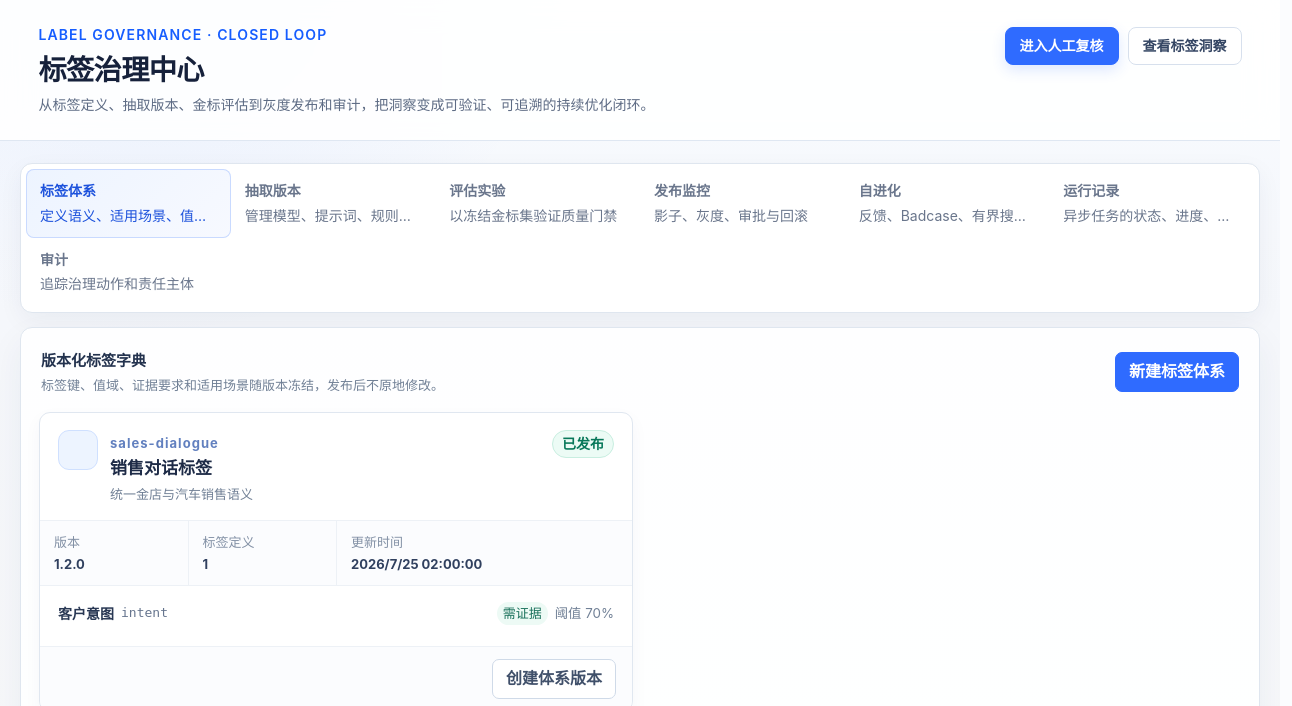
Test case: TagGovernancePage › shows evaluation quality gates and release traffic as operational evidence
Check: the heading "销售对话标签" is shown, box [110,458,212,478]
Click the tab "评估实验 以冻结金标集验证质量门禁" at (538, 204), box [435,169,640,238]
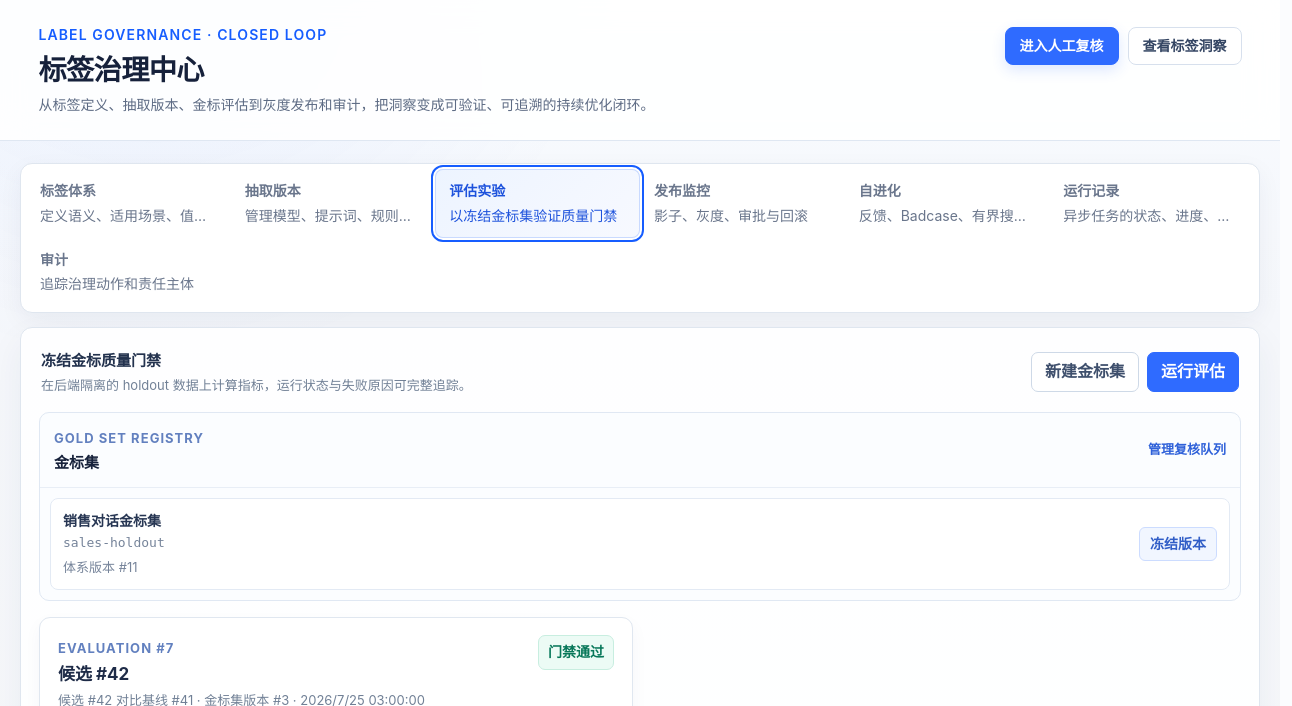
Check: the message named "质量门禁通过" is shown, box [538,635,614,670]
Click the tab "发布监控 影子、灰度、审批与回滚" at (742, 204), box [640,169,845,238]
(page scrolled)
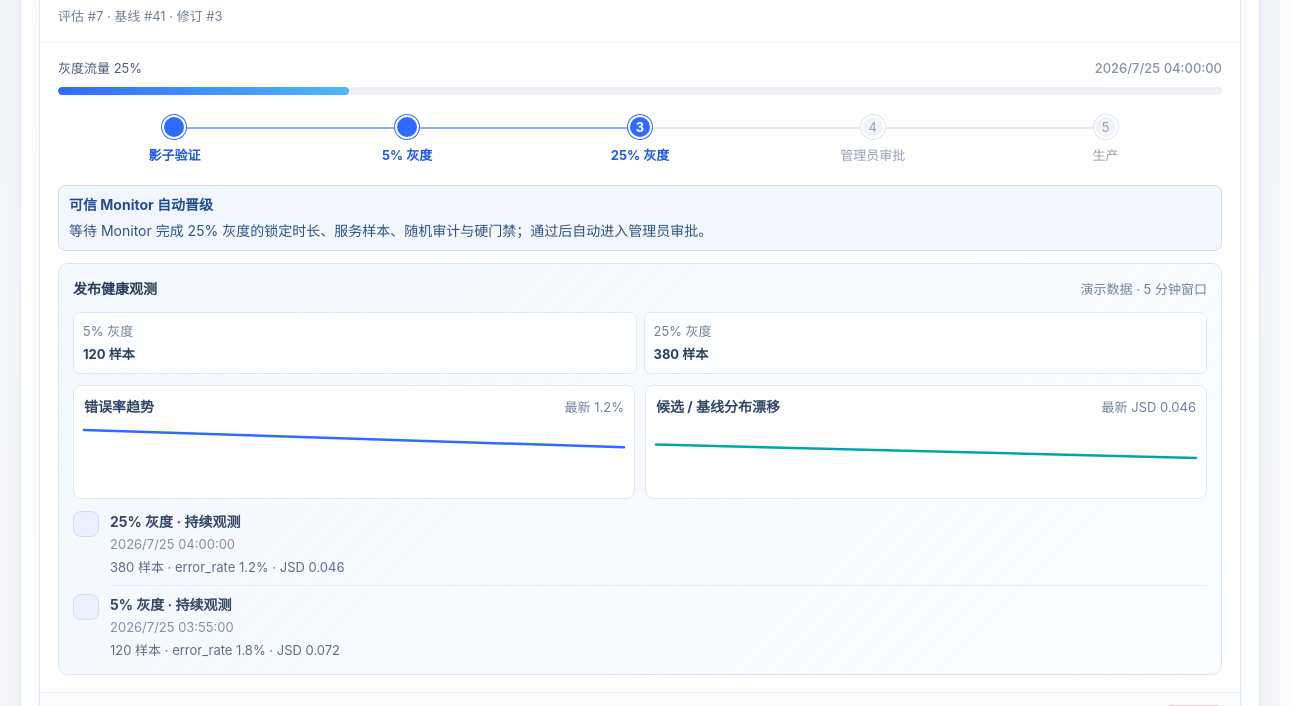
Check: the text "灰度流量 25%" is shown, box [58,58,142,78]
Check: the picture named "部署 9 error_rate 5分钟趋势" is shown, box [84,424,624,488]
Check: the picture named "部署 9 Jensen-Shannon 漂移趋势" is shown, box [656,424,1196,488]
